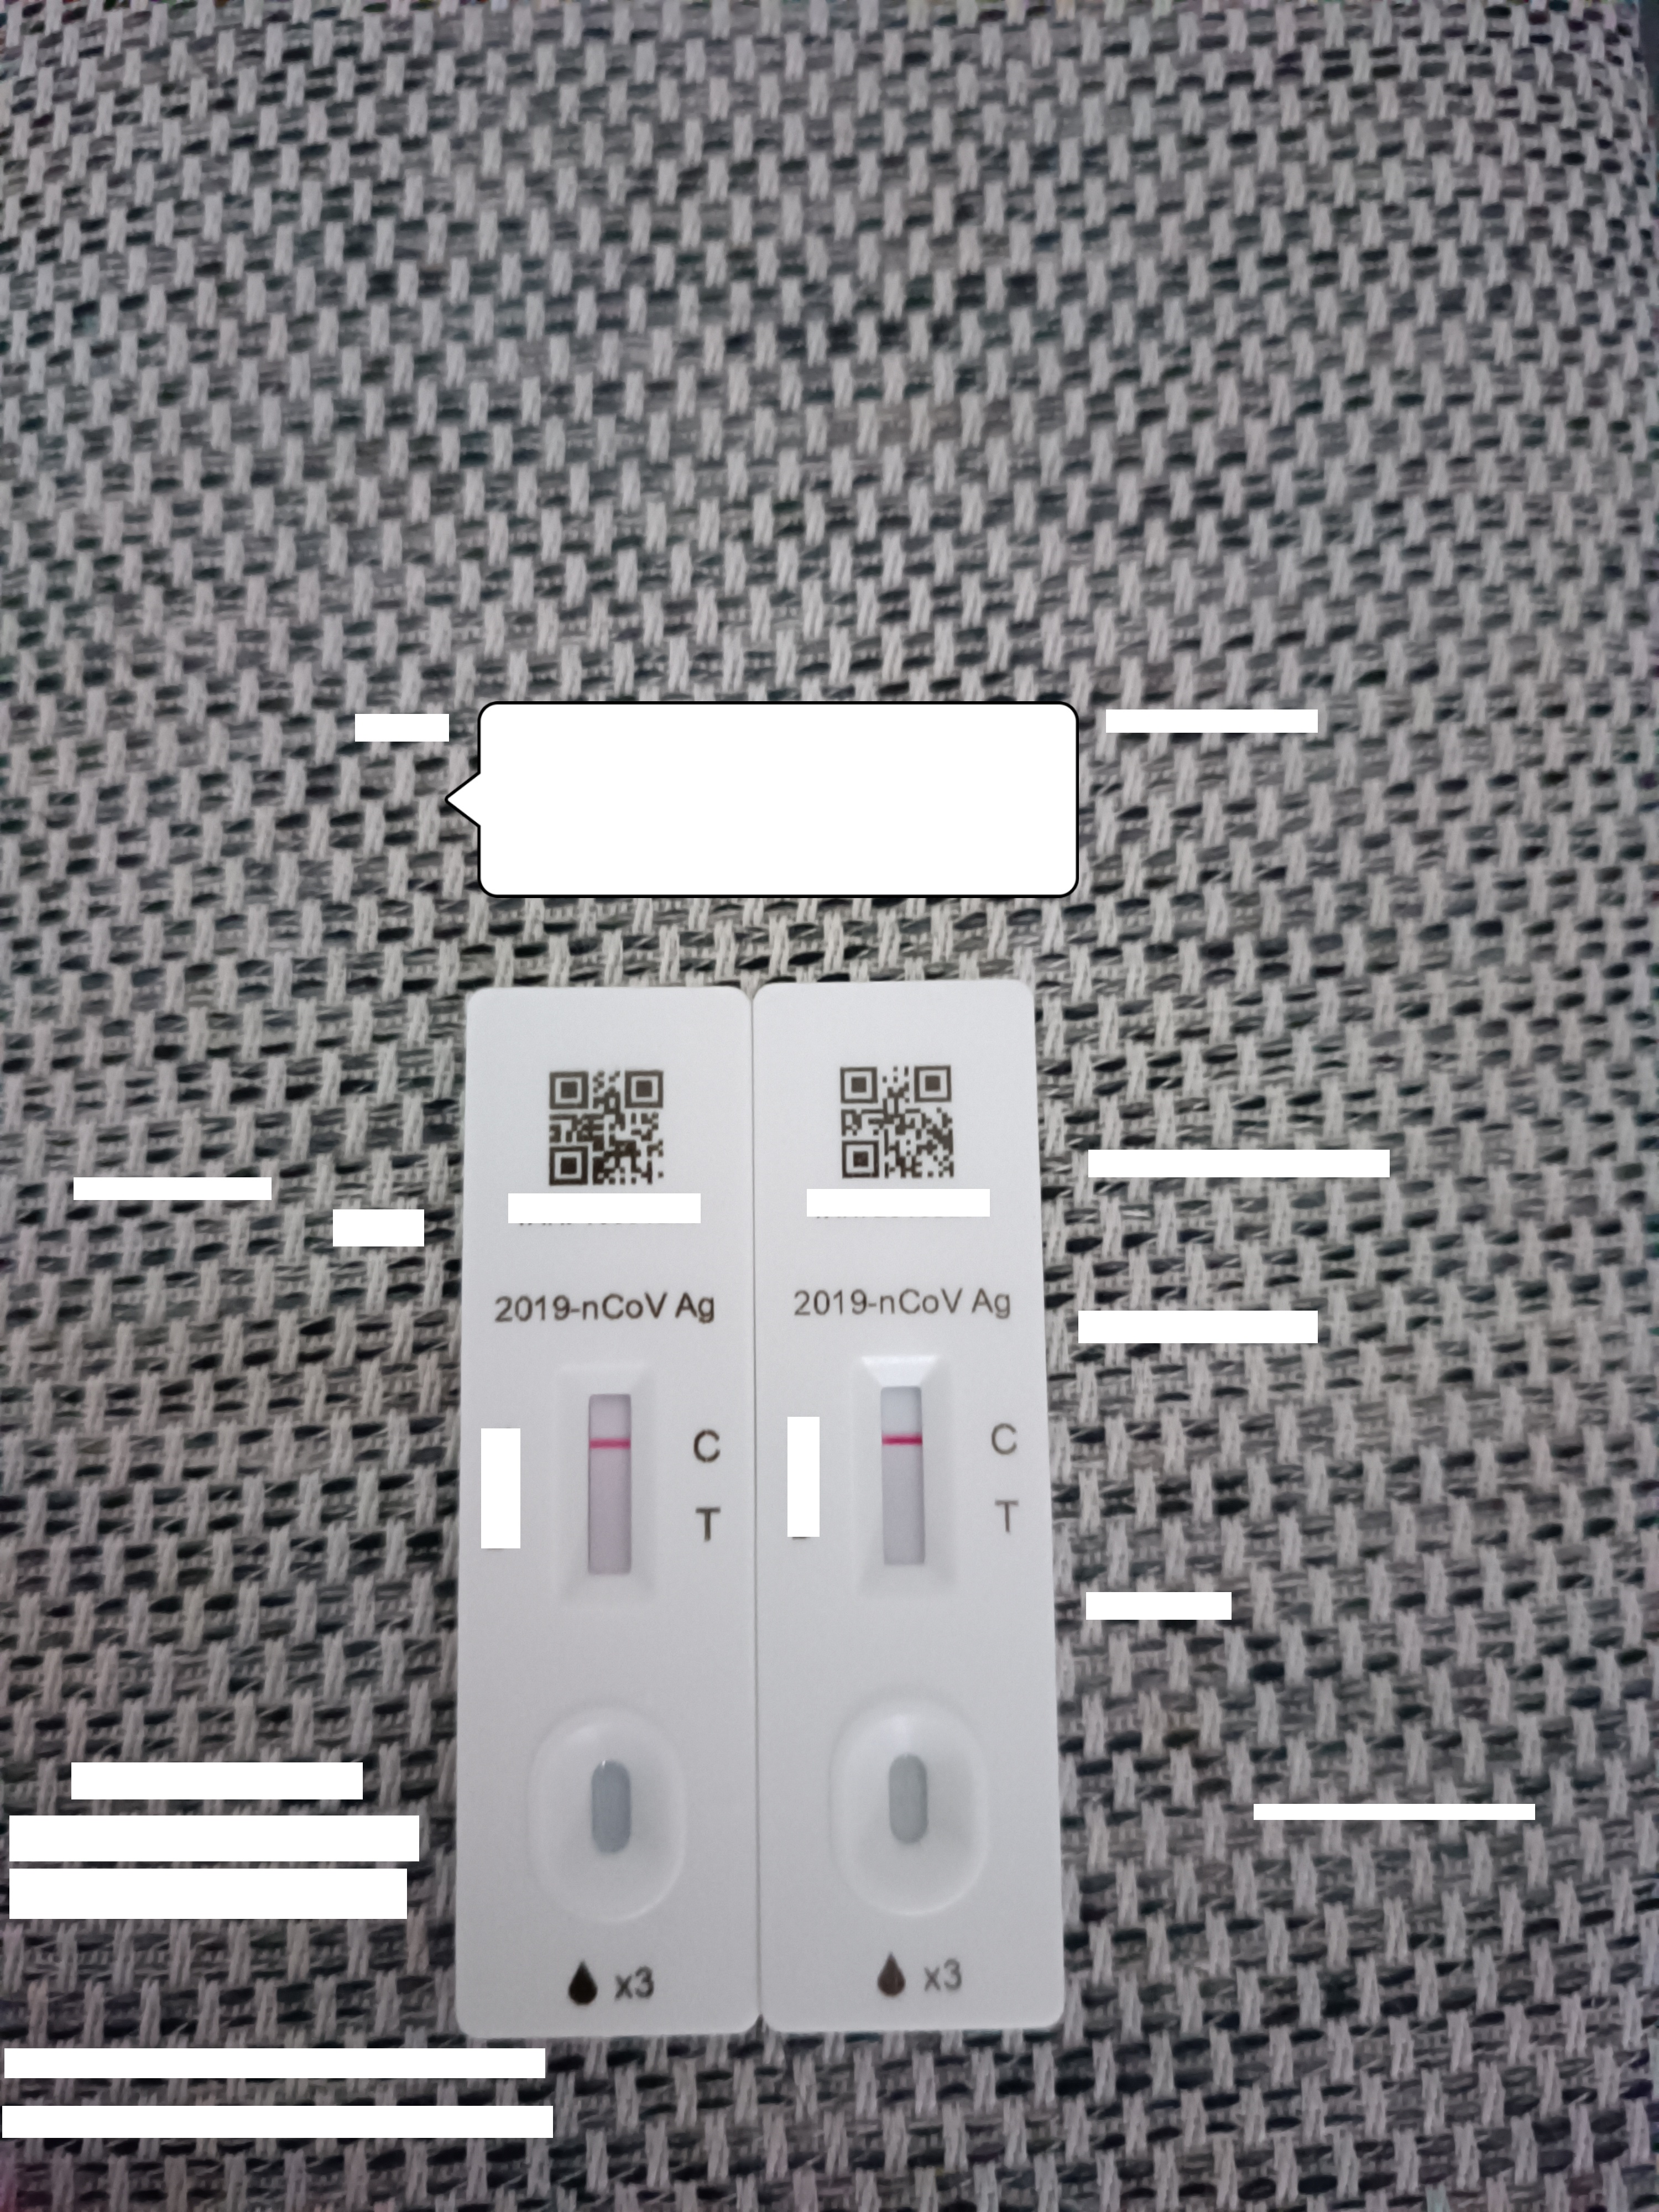negative: (854, 1348, 951, 1585), (558, 1362, 657, 1594)
